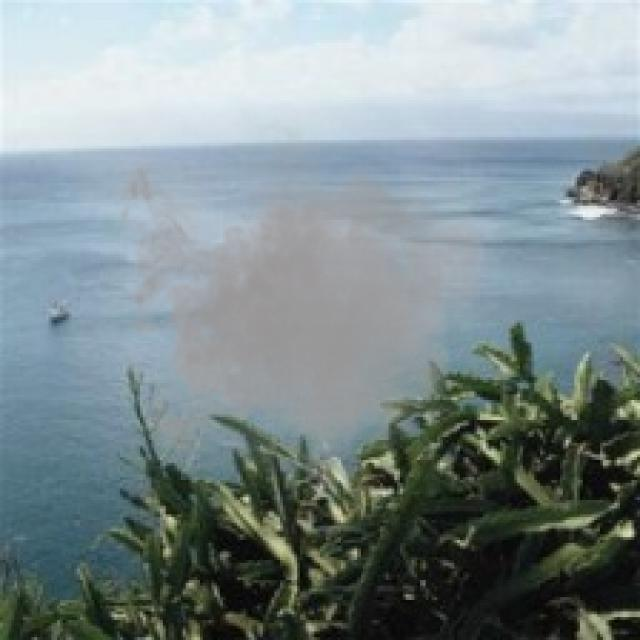Smoke: (106, 102, 492, 514)
